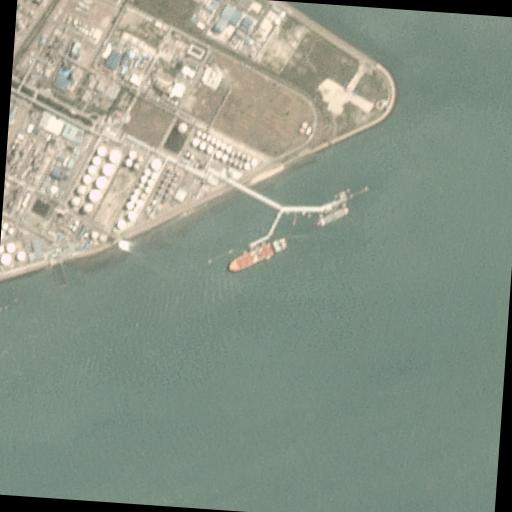ship: (226, 235, 286, 277), (316, 204, 350, 230)
